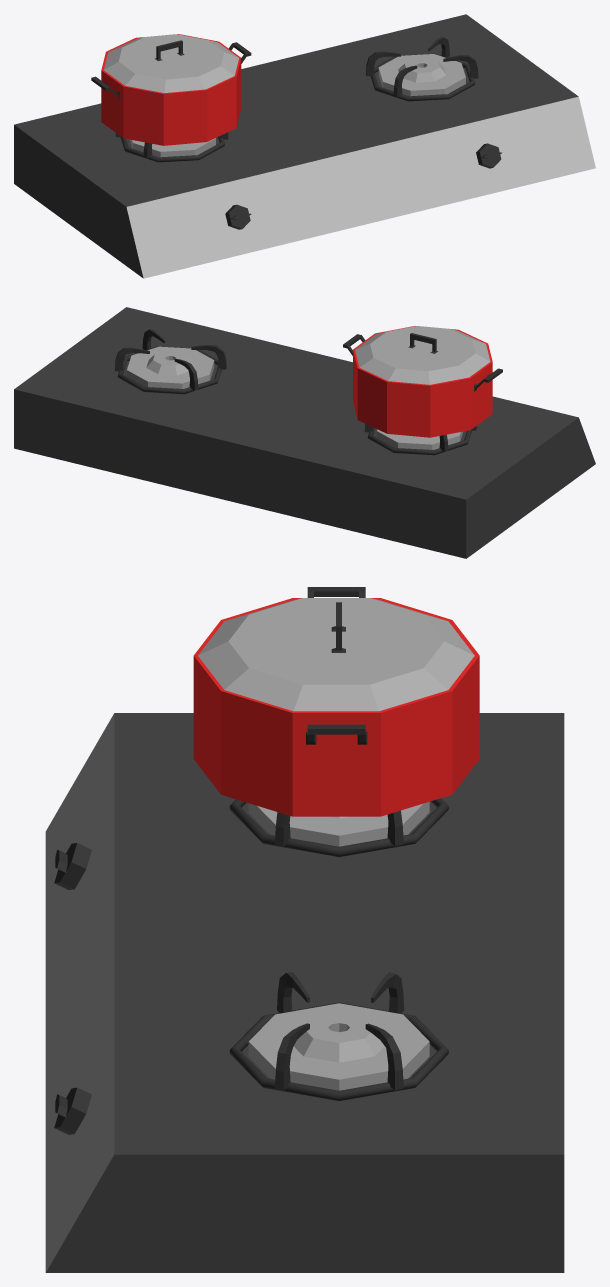
Rendered from SM_Pot&GasStove.fbx.
The picture shows the model from 3 angles, top to bottom: view 1: azimuth 30°, elevation 25°; view 2: azimuth 150°, elevation 25°; view 3: azimuth 270°, elevation 25°; orthographic projection. The views are drawn at different scales.
Parts seen in each view (by area): view 1: Cylinder.011, Cube.002, Cube.004; view 2: Cylinder.011, Cube.002, Cube.004; view 3: Cylinder.011, Cube.002, Cube.004.
Part boxes in pixels (x1,y1,x2,y2): Cylinder.011: (14, 14, 595, 278); Cube.002: (91, 34, 251, 145); Cube.004: (104, 34, 238, 92); Cylinder.011: (14, 307, 595, 558); Cube.002: (343, 326, 502, 437); Cube.004: (355, 326, 490, 384); Cylinder.011: (45, 713, 564, 1272); Cube.002: (193, 587, 479, 816); Cube.004: (198, 598, 474, 711).
Bounding box in the file's own units: 1.03 × 0.3415 × 0.5113.
